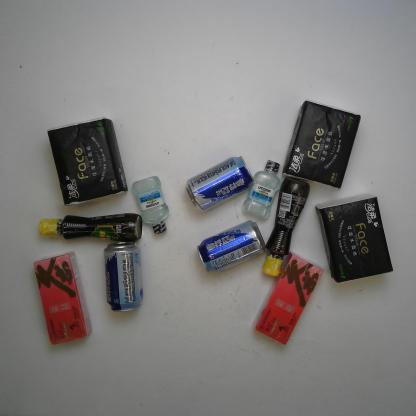Alcohol: (185, 154, 255, 212), (196, 219, 267, 274), (102, 241, 144, 313)
Instant Drink: (252, 250, 324, 346), (33, 251, 93, 345)
Personal Hygiene: (241, 159, 281, 219), (131, 176, 169, 236)
Seasoner: (260, 176, 310, 278), (38, 212, 143, 243)
Tissue: (47, 116, 129, 208), (314, 192, 393, 284), (281, 100, 361, 190)
